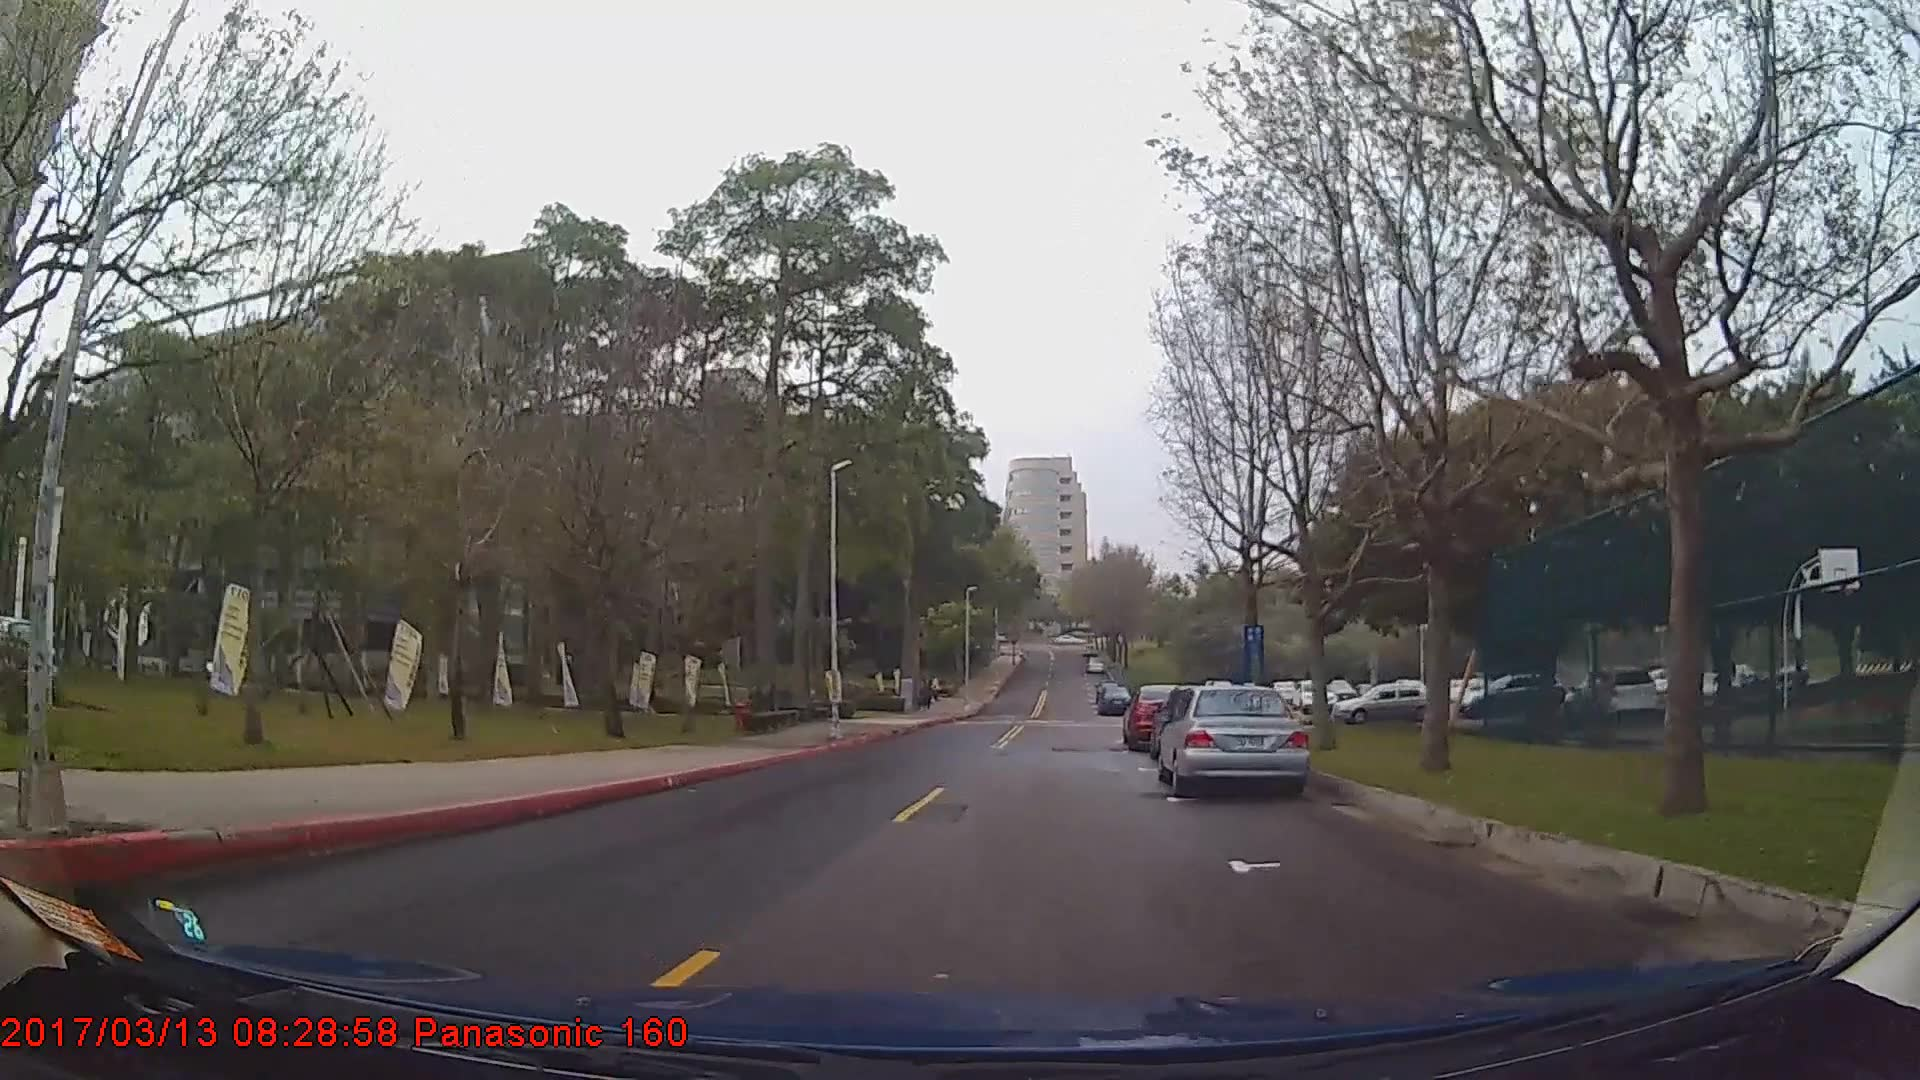vehicle: (1155, 680, 1309, 796), (1120, 680, 1199, 753), (1560, 665, 1654, 725), (1336, 676, 1447, 727), (1097, 684, 1131, 717)
